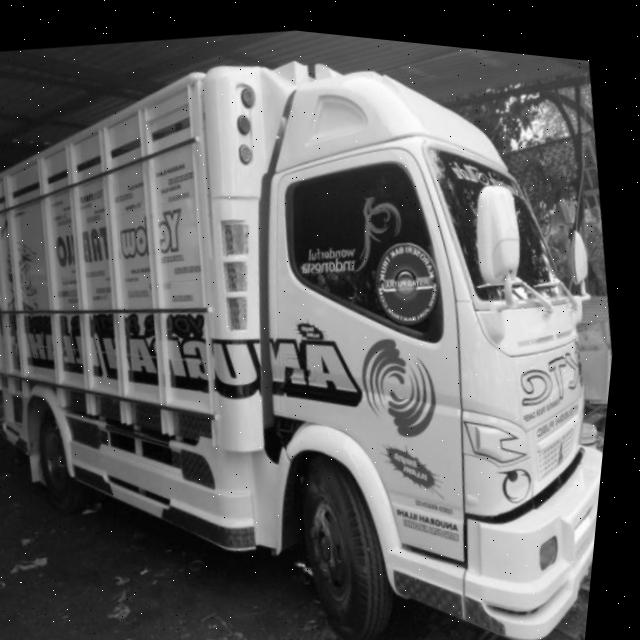truck: (161, 18, 640, 640)
